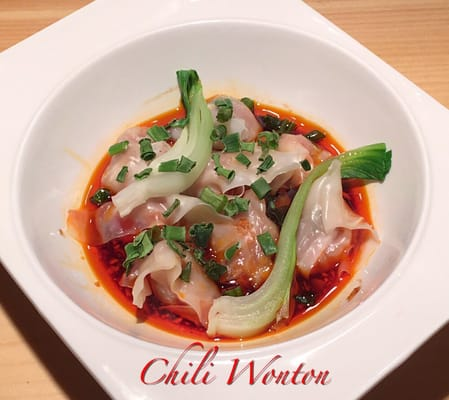sushi: (2, 2, 446, 391), (40, 45, 428, 352)
